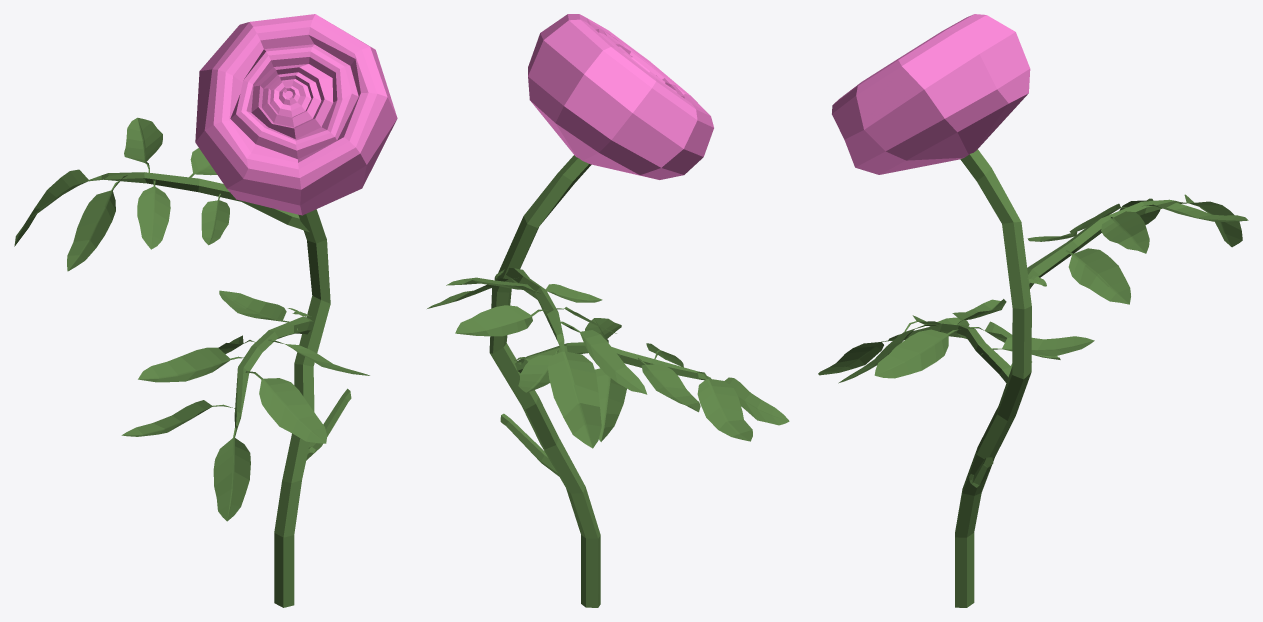
Rendered from Rose.fbx.
The picture shows the model from 3 angles, left to right: view 1: azimuth 30°, elevation 25°; view 2: azimuth 150°, elevation 25°; view 3: azimuth 270°, elevation 25°; orthographic projection.
Visible parts, largest first — view 1: Plane.006; view 2: Plane.006; view 3: Plane.006.
Part boxes in pixels (bbox=[...]): Plane.006: bbox=[14, 14, 397, 607]; Plane.006: bbox=[427, 14, 789, 607]; Plane.006: bbox=[818, 14, 1248, 607].
Bounding box in the file's own units: 258 × 583 × 389.
